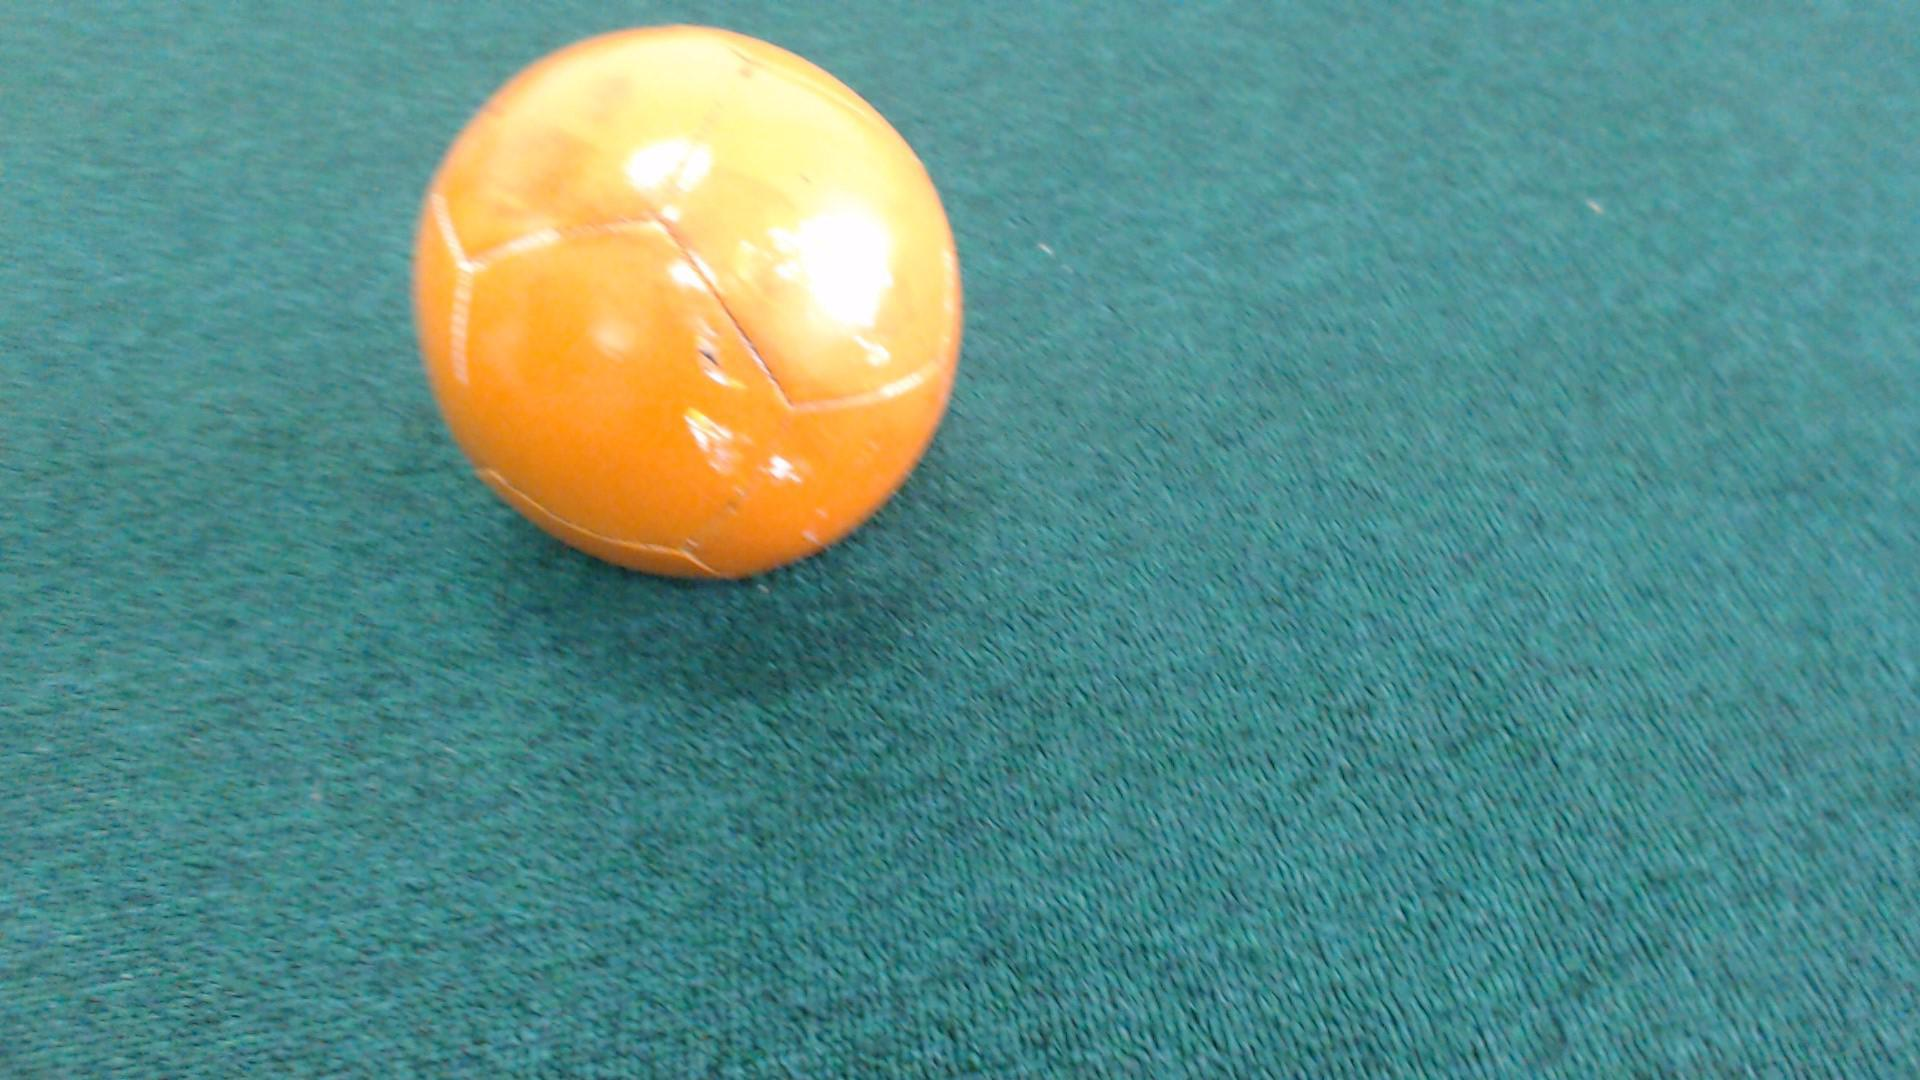bola: (398, 13, 969, 592)
